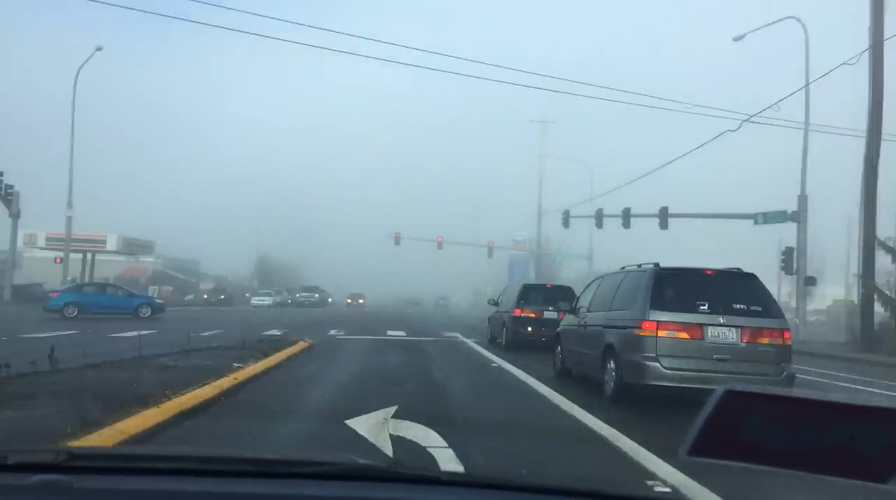car: (549, 261, 802, 403), (485, 283, 582, 351), (41, 280, 166, 320), (294, 283, 323, 309), (199, 287, 234, 308), (248, 287, 278, 311), (266, 284, 290, 309), (345, 291, 367, 309), (434, 296, 450, 313)
